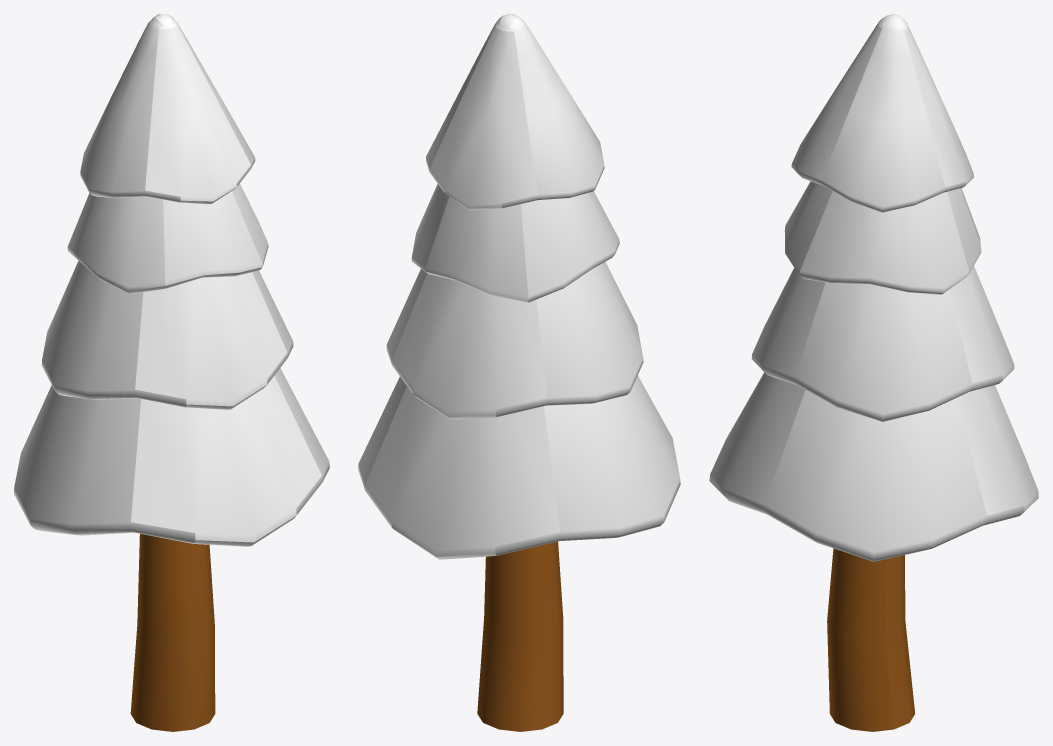
Rendered from tree_winter.fbx.
3 renders of one model, left to right at view 1: azimuth 30°, elevation 25°; view 2: azimuth 150°, elevation 25°; view 3: azimuth 270°, elevation 25°, orthographic. The views are drawn at different scales.
Parts seen in each view (by area): view 1: tree_winter; view 2: tree_winter; view 3: tree_winter.
Boxes of the visible parts, box(x1,y1,x2,y2) form: tree_winter: box(14, 14, 329, 731); tree_winter: box(358, 14, 680, 731); tree_winter: box(709, 14, 1038, 731).
Bounding box in the file's own units: 245 × 574 × 245.
